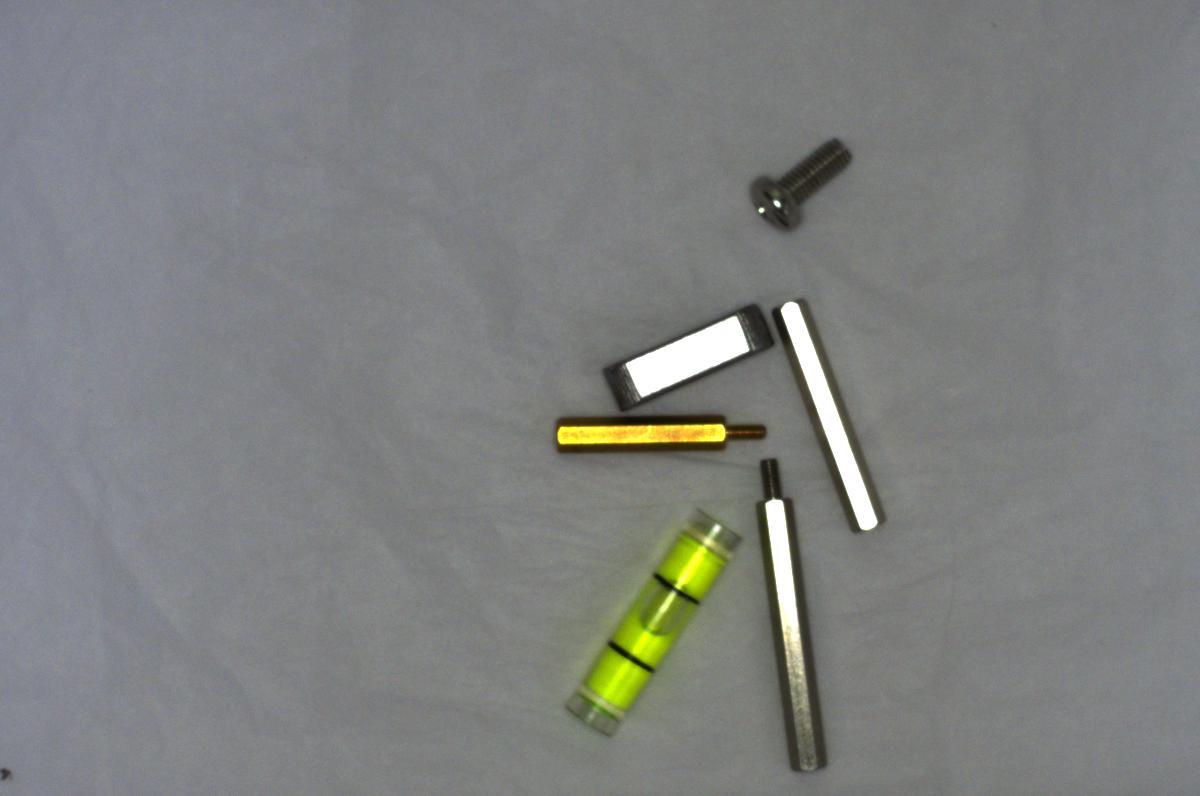Double hexagonal column: (775, 290, 902, 544)
Hexagon pillar: (539, 405, 773, 462)
Hexagonal steel column: (751, 448, 841, 781)
Horizontal bubble: (547, 494, 742, 746)
Keybar: (598, 304, 780, 405)
Round head screw: (739, 126, 850, 230)
